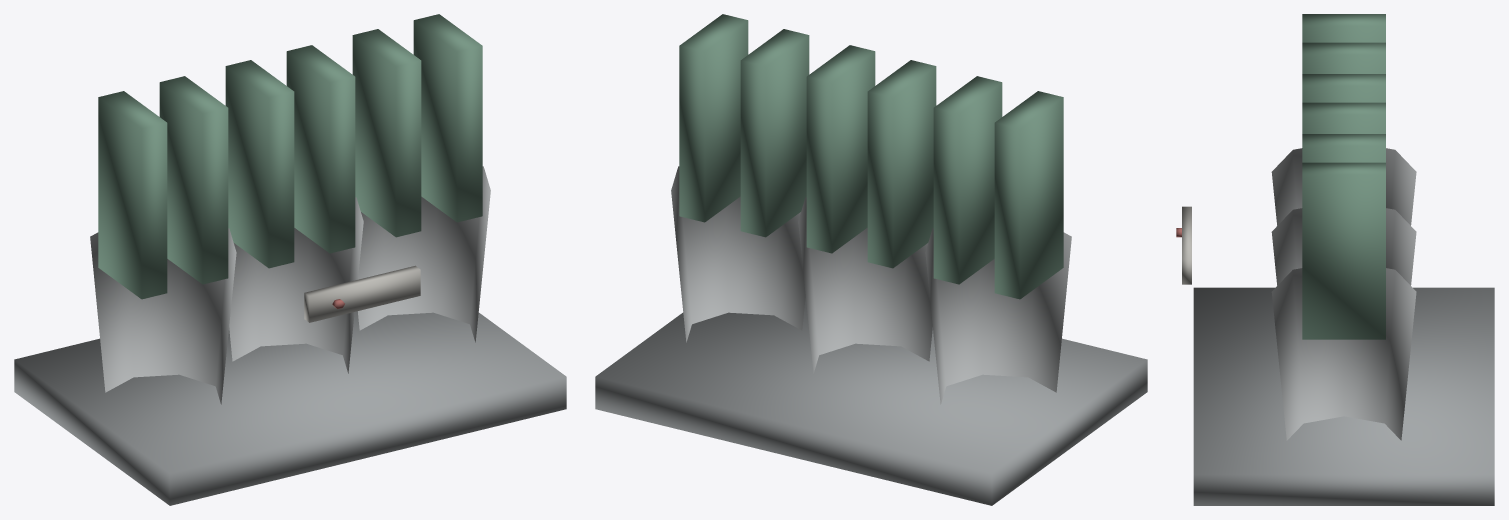
The model's file is flower_bucket_rack__squat.glb.
The picture shows the model from 3 angles, left to right: view 1: azimuth 30°, elevation 25°; view 2: azimuth 150°, elevation 25°; view 3: azimuth 270°, elevation 25°; orthographic projection. The views are drawn at different scales.
Parts seen in each view (by area): view 1: world; view 2: world; view 3: world.
Boxes of the visible parts, <box> form: world: <box>14,14,566,505</box>; world: <box>595,14,1147,505</box>; world: <box>1176,14,1494,505</box>.
Size of the model in its own units: 0.858 by 0.6804 by 0.6167.
